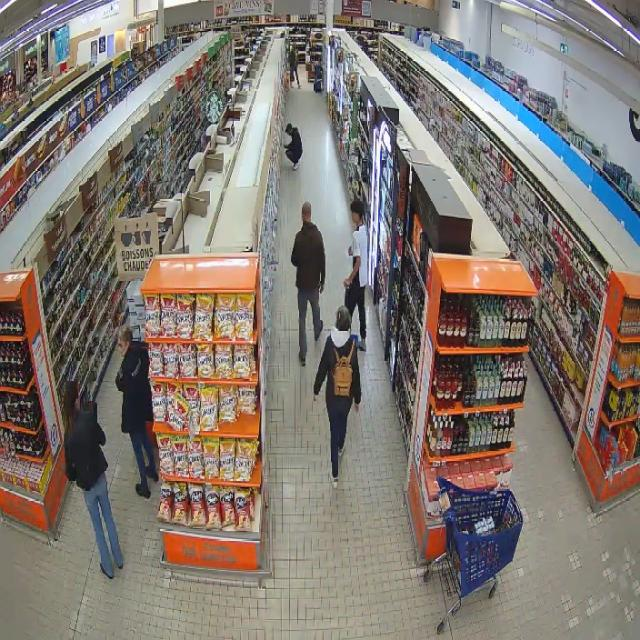bags: (334, 341, 353, 396)
hands: (344, 278, 350, 288), (355, 404, 360, 414), (320, 284, 324, 294), (349, 247, 352, 255), (314, 395, 318, 401)
person: (64, 382, 122, 578), (314, 306, 361, 487), (115, 326, 158, 498), (291, 201, 325, 364), (344, 198, 367, 350), (285, 123, 302, 168)
